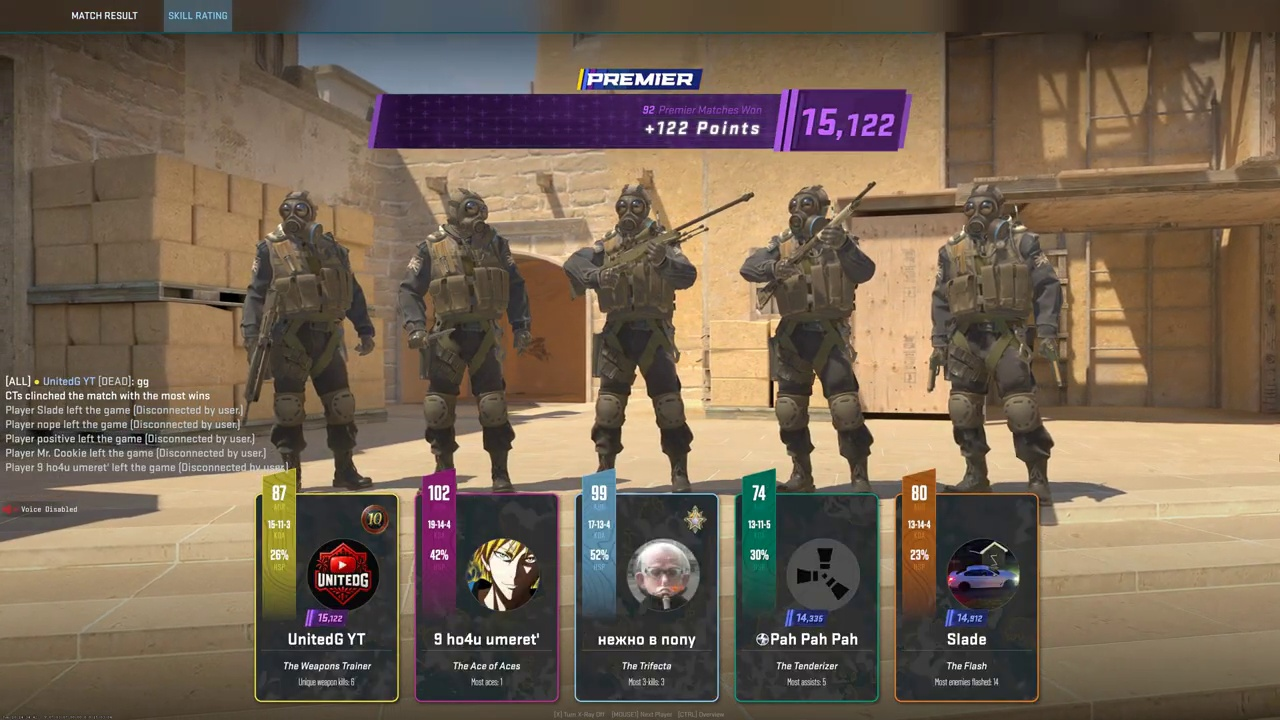CT: (933, 185, 1052, 496), (250, 189, 372, 490), (411, 189, 520, 486), (766, 186, 871, 491), (588, 185, 684, 489)
